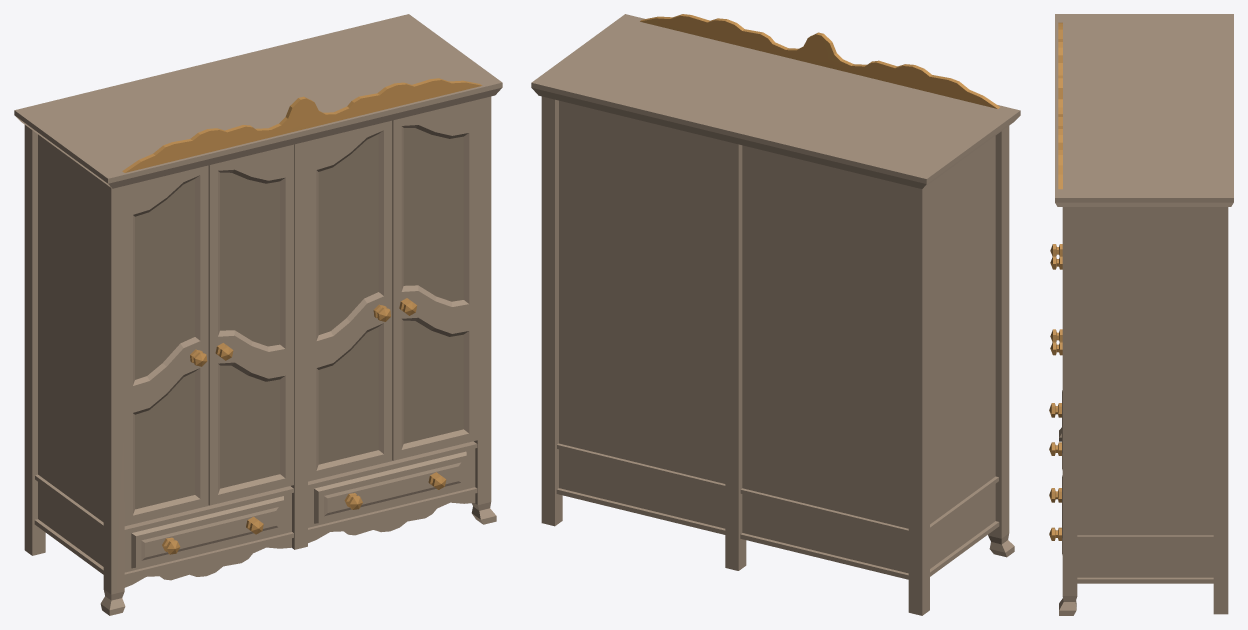
The model's file is kingdom_SM_Prop_Wardrobe_01_Preset.gltf.
3 views of the same model, side by side, from view 1: azimuth 30°, elevation 25°; view 2: azimuth 150°, elevation 25°; view 3: azimuth 270°, elevation 25° (orthographic). The views are drawn at different scales.
Parts seen in each view (by area): view 1: SM_Prop_Wardrobe_01_Preset; view 2: SM_Prop_Wardrobe_01_Preset; view 3: SM_Prop_Wardrobe_01_Preset.
Part boxes in pixels (left/top/right/bottom): SM_Prop_Wardrobe_01_Preset: left=14, top=14, right=502, bottom=615; SM_Prop_Wardrobe_01_Preset: left=531, top=14, right=1020, bottom=615; SM_Prop_Wardrobe_01_Preset: left=1049, top=14, right=1233, bottom=615.
Bounding box in the file's own units: 2.07 × 2.36 × 0.8795.
Materials: 1 (1 with a texture image).
